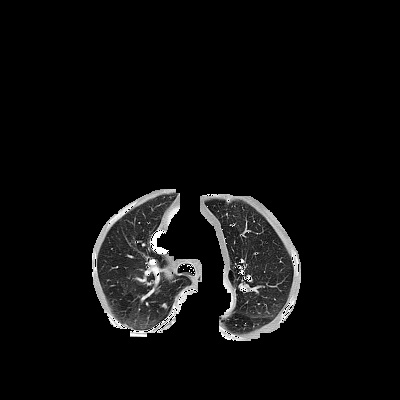PN: (161, 303, 167, 309)
